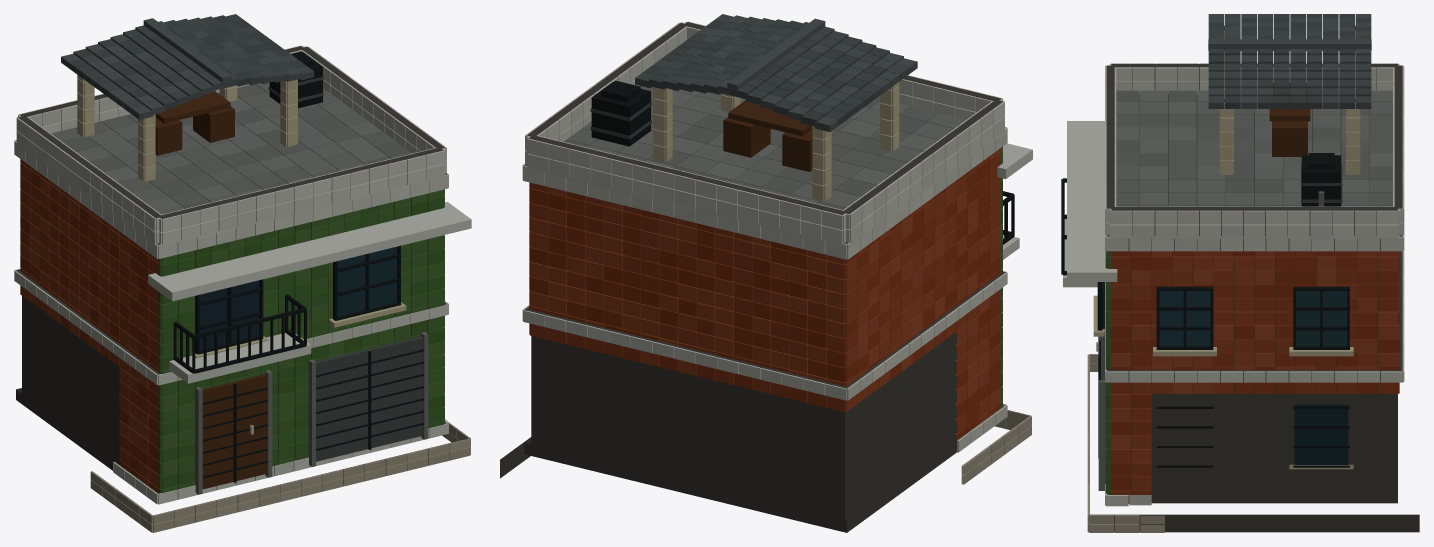
File: SM_StreetFrontage_046.fbx
3 renders of one model, left to right at view 1: azimuth 30°, elevation 25°; view 2: azimuth 150°, elevation 25°; view 3: azimuth 270°, elevation 25°, orthographic. The views are drawn at different scales.
Visible parts, largest first — view 1: SM_StreetFrontage_046; view 2: SM_StreetFrontage_046; view 3: SM_StreetFrontage_046.
Boxes of the visible parts, x1,y1,x2,y2 form: SM_StreetFrontage_046: (14, 14, 471, 532); SM_StreetFrontage_046: (500, 14, 1032, 532); SM_StreetFrontage_046: (1061, 14, 1419, 532).
Size of the model in its own units: 8 by 7.49 by 9.15.
